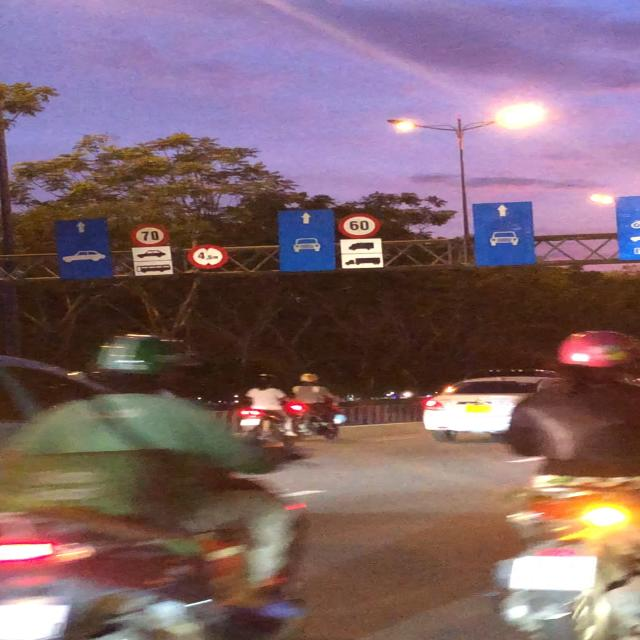Bien bao han che chieu cao: (184, 242, 231, 272)
Bien bao toc do toi da cho phep: (332, 211, 387, 240), (128, 220, 172, 247)
